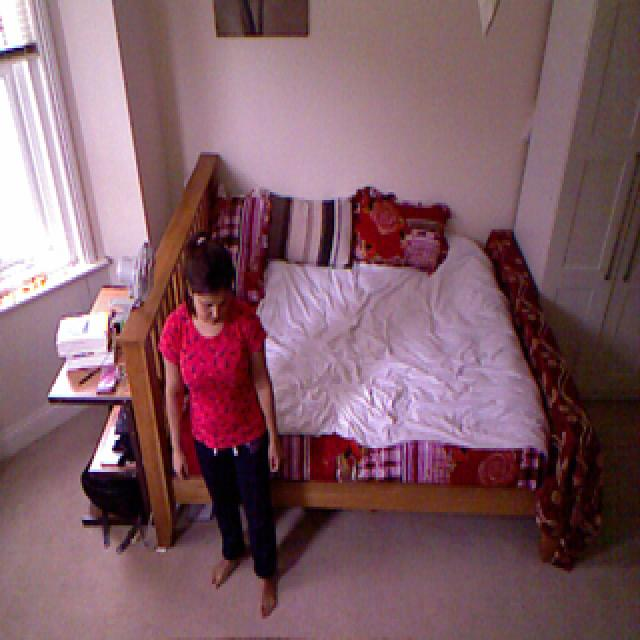standing: (164, 217, 301, 637)
